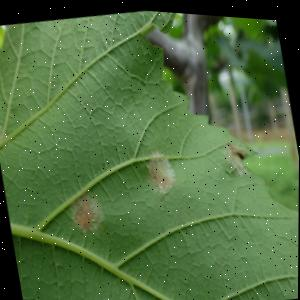Folha: (0, 0, 300, 300)
Fungo: (139, 142, 178, 195), (64, 184, 105, 234), (220, 134, 248, 174)
